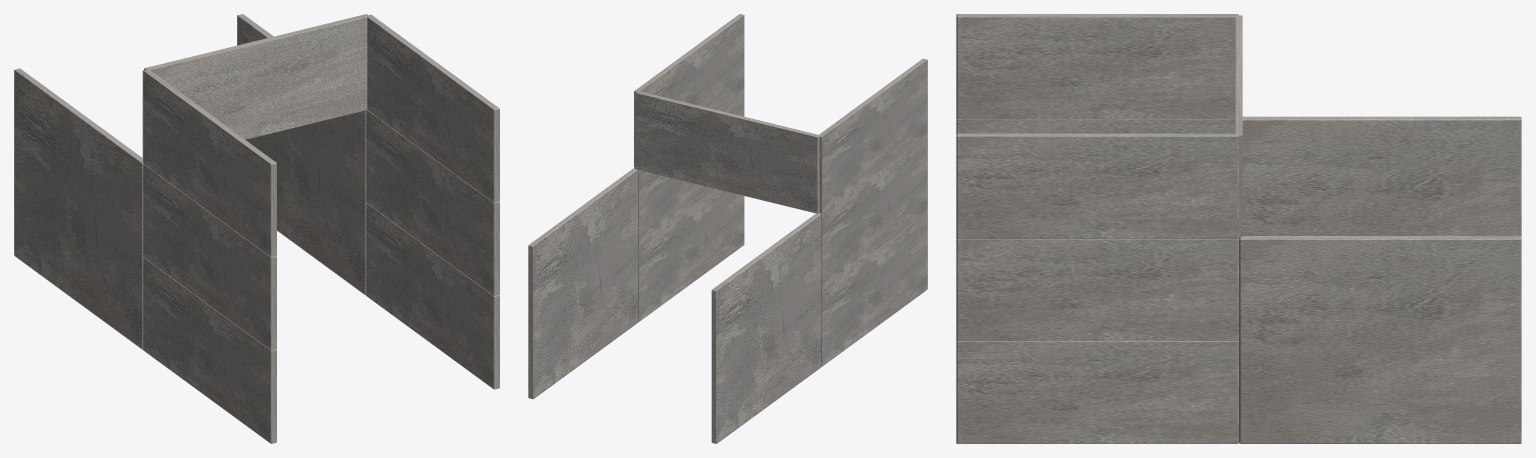
File: NormalStair_Wall.fbx
3 renders of one model, left to right at view 1: azimuth 30°, elevation 25°; view 2: azimuth 150°, elevation 25°; view 3: azimuth 270°, elevation 25°, orthographic. The views are drawn at different scales.
Parts seen in each view (by area): view 1: NormalStair_Wall; view 2: NormalStair_Wall; view 3: NormalStair_Wall.
Boxes of the visible parts, x1,y1,x2,y2 form: NormalStair_Wall: [14, 14, 499, 443]; NormalStair_Wall: [528, 14, 927, 443]; NormalStair_Wall: [956, 14, 1521, 443].
Bounding box in the file's own units: 1025 × 1200 × 2000.
Materials: 1 (1 with a texture image).
